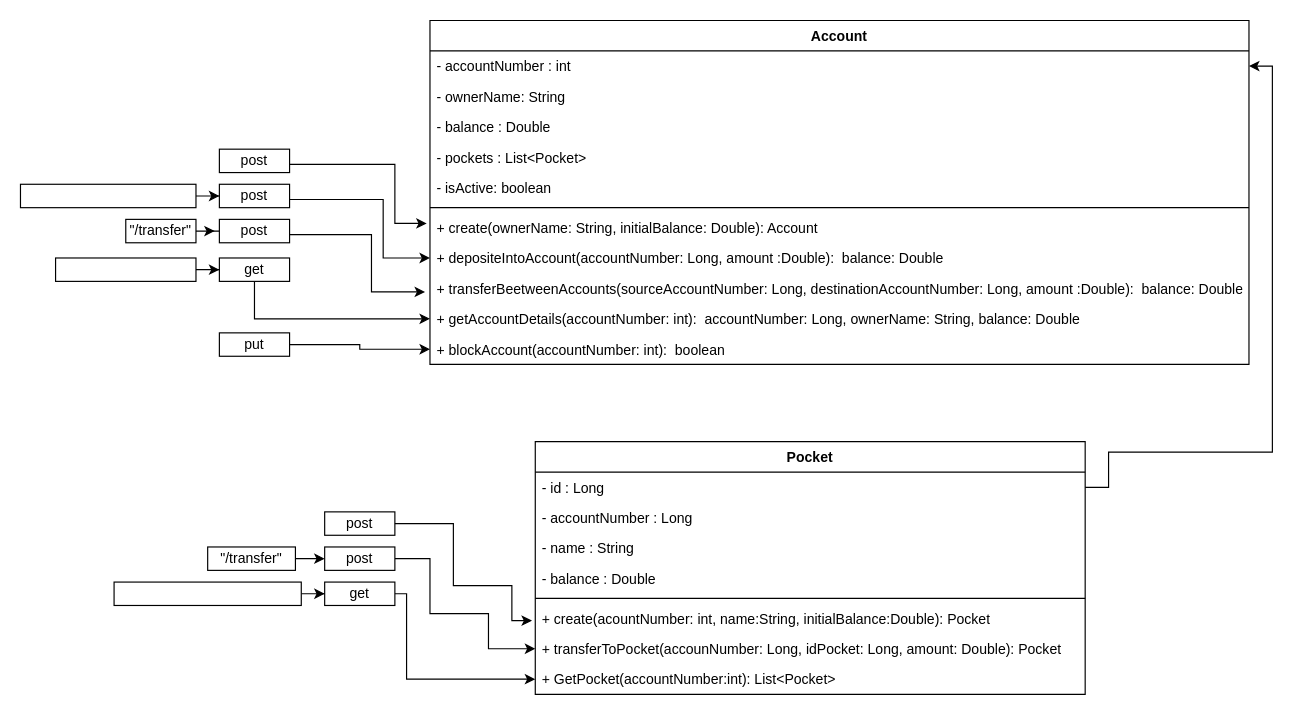
Image size: 1302x718. Some labels were removed from this diagram. Here are the shapes that lost their labels. From the top down, the centre of each, then its label:
point (107, 195): "{accountNumber"}/deposit
point (125, 269): "{accountNumber"}
point (207, 593): "/{accountNumber}/pockets"
